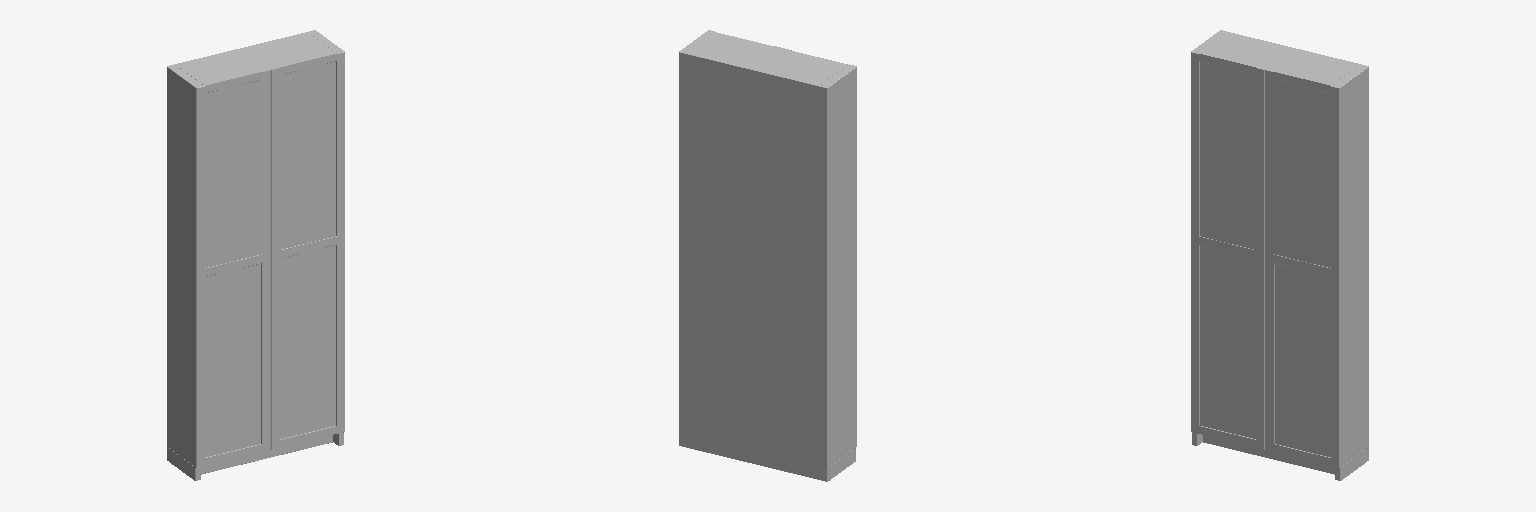
File: IKEA-BILLY_Bibliotheque-3D.obj
3 views of the same model, side by side, from view 1: azimuth 30°, elevation 25°; view 2: azimuth 150°, elevation 25°; view 3: azimuth 330°, elevation 25° (orthographic).
Parts seen in each view (by area): view 1: Box001, Box016, Box015, Box013, Box014, Rectangle001, Box002, Box003, Box004, Box005, Box008; view 2: Box005, Box001, Rectangle001; view 3: Box002, Box015, Box016, Box014, Box013, Rectangle001, Box001, Box004, Box003, Box005, Box008.
Boxes of the visible parts, x1=… form: Box001: x1=169, y1=66, x2=204, y2=467; Box016: x1=280, y1=245, x2=335, y2=438; Box015: x1=205, y1=264, x2=260, y2=456; Box013: x1=205, y1=80, x2=261, y2=267; Box014: x1=280, y1=62, x2=335, y2=249; Rectangle001: x1=178, y1=34, x2=336, y2=465; Box002: x1=309, y1=32, x2=344, y2=433; Box003: x1=261, y1=70, x2=270, y2=451; Box004: x1=271, y1=68, x2=279, y2=449; Box005: x1=167, y1=30, x2=316, y2=460; Box008: x1=201, y1=435, x2=332, y2=474; Box005: x1=679, y1=51, x2=829, y2=481; Box001: x1=822, y1=64, x2=856, y2=465; Rectangle001: x1=689, y1=32, x2=847, y2=84; Box002: x1=1331, y1=66, x2=1366, y2=467; Box015: x1=1200, y1=245, x2=1255, y2=438; Box016: x1=1275, y1=264, x2=1330, y2=456; Box014: x1=1274, y1=80, x2=1330, y2=267; Box013: x1=1200, y1=62, x2=1255, y2=249; Rectangle001: x1=1199, y1=34, x2=1357, y2=465; Box001: x1=1191, y1=32, x2=1226, y2=433; Box004: x1=1265, y1=70, x2=1274, y2=451; Box003: x1=1256, y1=68, x2=1264, y2=449; Box005: x1=1219, y1=30, x2=1368, y2=460; Box008: x1=1203, y1=435, x2=1334, y2=474.
Bounding box in the file's own units: 800 × 2020 × 280.